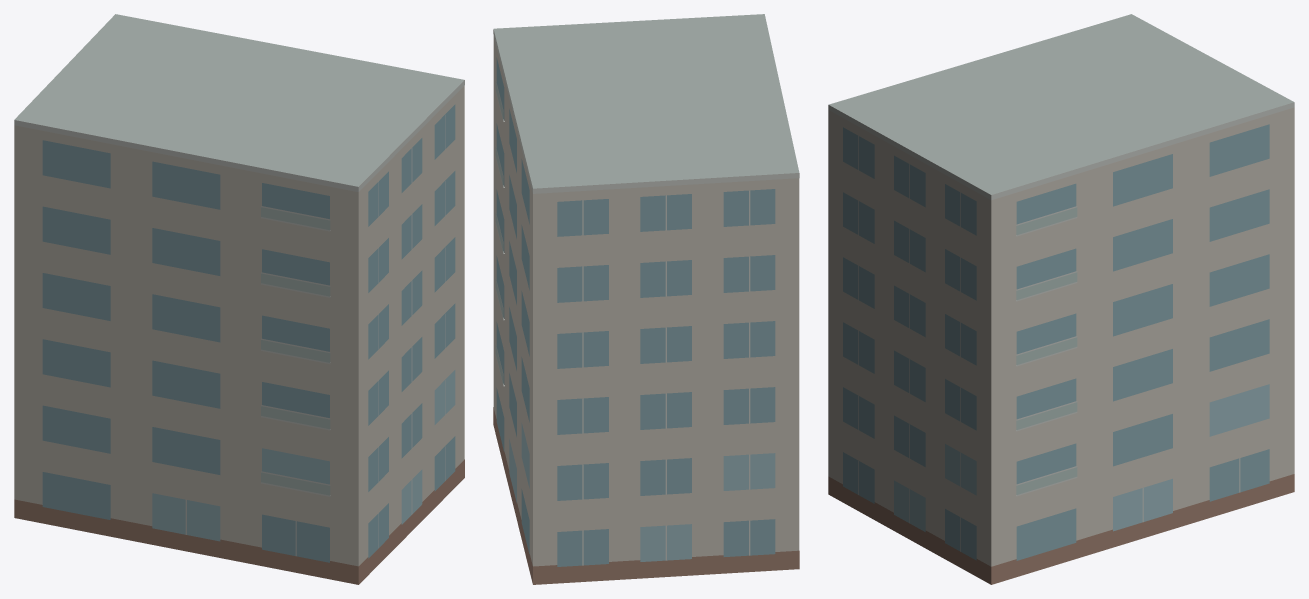
File: survey-upis-32713474.glb
The picture shows the model from 3 angles, left to right: view 1: azimuth 30°, elevation 25°; view 2: azimuth 150°, elevation 25°; view 3: azimuth 270°, elevation 25°; orthographic projection. The views are drawn at different scales.
Visible parts, largest first — view 1: survey-upis-32713474.tmp; view 2: survey-upis-32713474.tmp; view 3: survey-upis-32713474.tmp.
Boxes of the visible parts, box(x1,y1,x2,y2) form: survey-upis-32713474.tmp: box(14, 14, 464, 584); survey-upis-32713474.tmp: box(493, 14, 799, 584); survey-upis-32713474.tmp: box(828, 14, 1294, 584).
Bounding box in the file's own units: 18.24 × 18.3 × 19.84.
